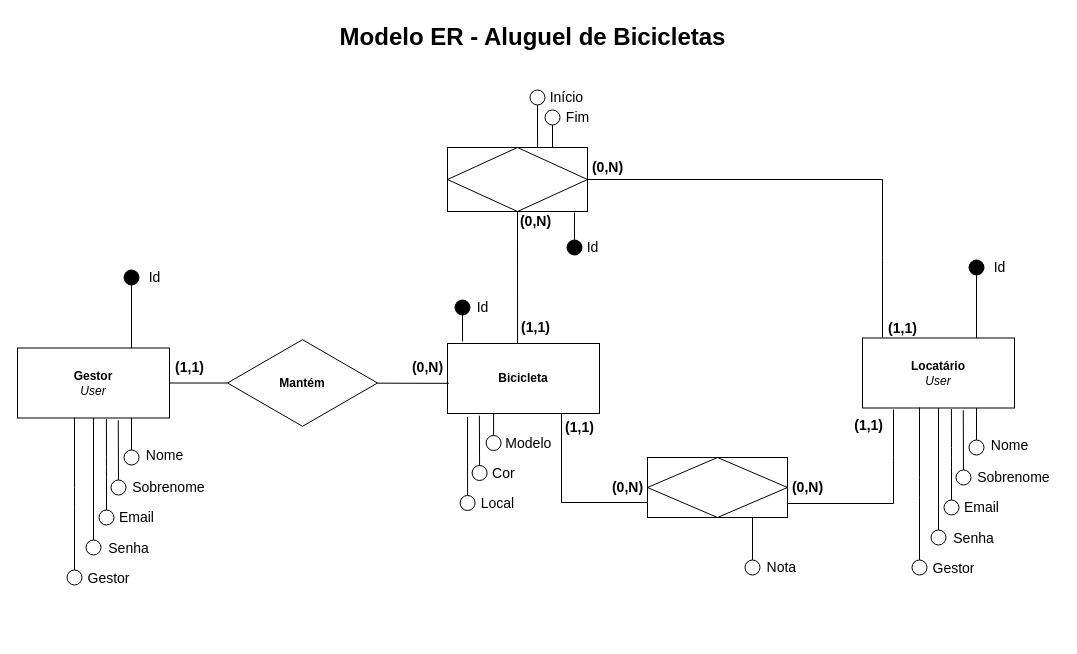
The diagram is 1077 pixels wide and 654 high, and some of its shapes have lost their labels. The shapes that lost their labels are listed below. From the top down, each one's centre as x and y in pixels, then its label:
At [517,179]: "Reserva".
At [717,487]: "Avalia".
